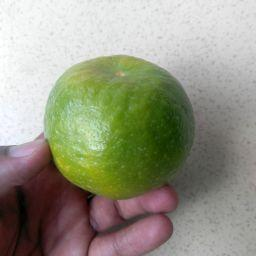Unripe: (45, 55, 197, 202)
